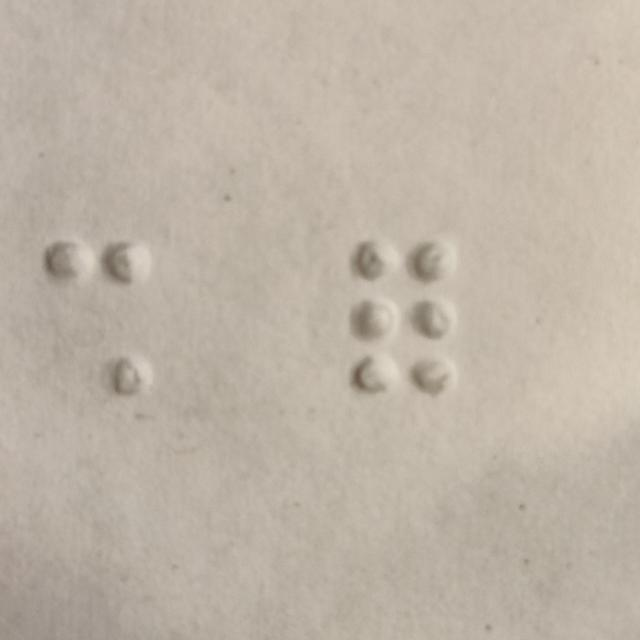maging: (45, 240, 149, 398)
mahal: (353, 241, 456, 399)
